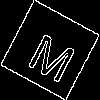M: (25, 24, 83, 84)
